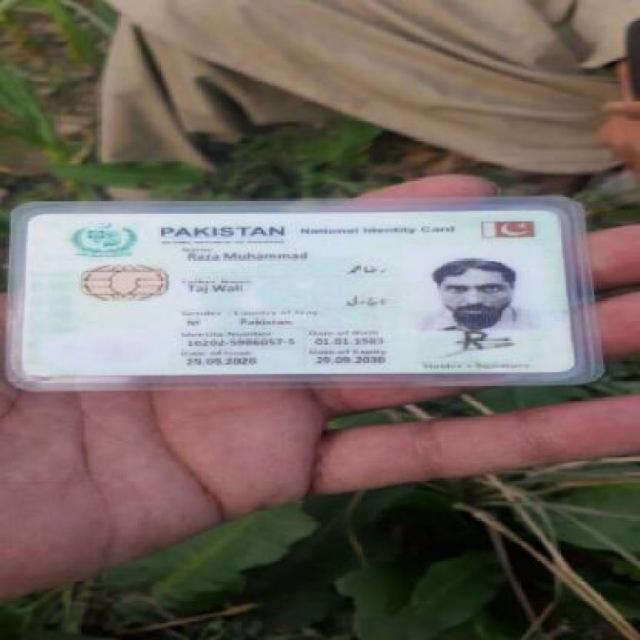Front: (10, 208, 588, 377)
